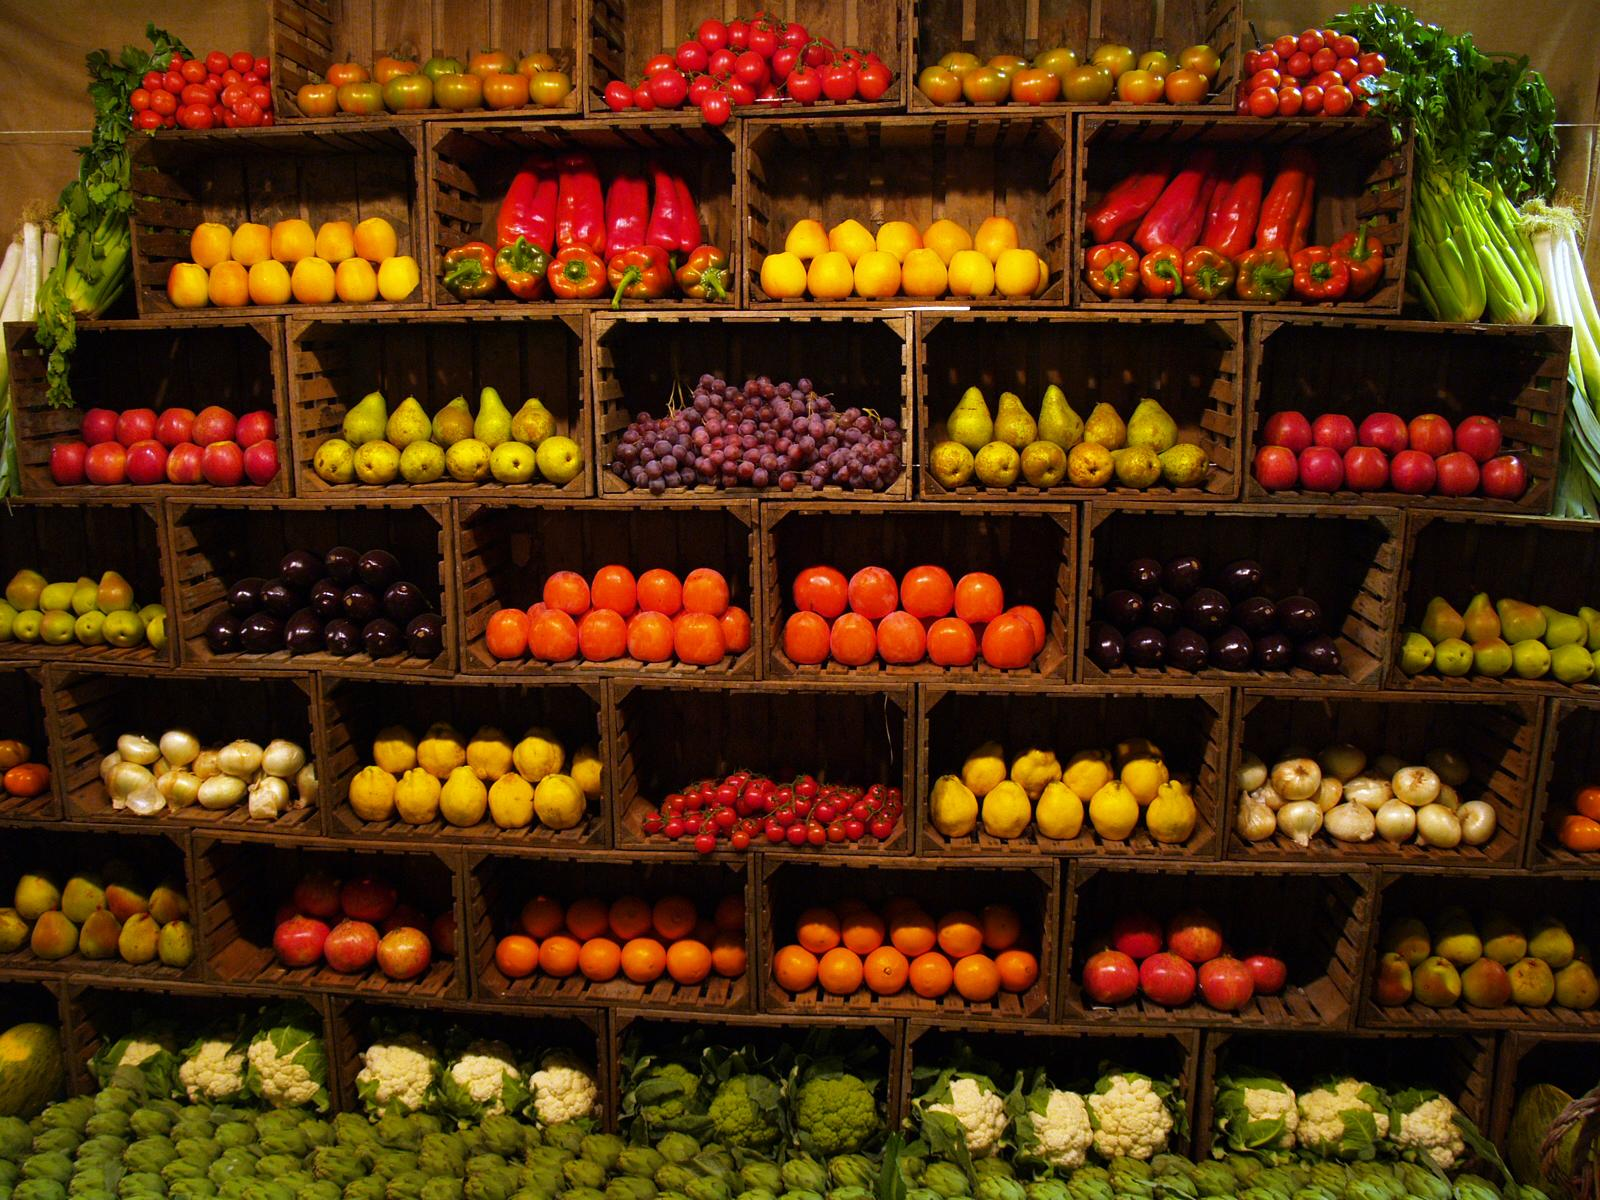eggplant: (1087, 531, 1367, 672), (204, 523, 443, 650)
grapes: (610, 361, 905, 495)
lemon: (936, 726, 1207, 843), (341, 706, 605, 826)
onion: (1236, 715, 1503, 847), (92, 713, 325, 818)
orange: (490, 879, 756, 987), (776, 891, 1034, 996)
pear: (927, 379, 1231, 487), (320, 381, 588, 489), (1371, 896, 1600, 1015), (1407, 575, 1600, 686), (0, 861, 189, 968), (0, 548, 171, 657)
pomegranate: (244, 860, 469, 988), (1071, 892, 1303, 1016)
red apple: (1262, 401, 1537, 497), (43, 396, 286, 488)
sweet pepper: (1082, 137, 1390, 309), (441, 169, 738, 301)
tomato: (479, 548, 755, 671), (610, 19, 905, 126), (789, 550, 1057, 667), (631, 749, 908, 856), (300, 23, 573, 121), (922, 21, 1228, 106), (1242, 30, 1397, 113), (135, 47, 275, 132)
